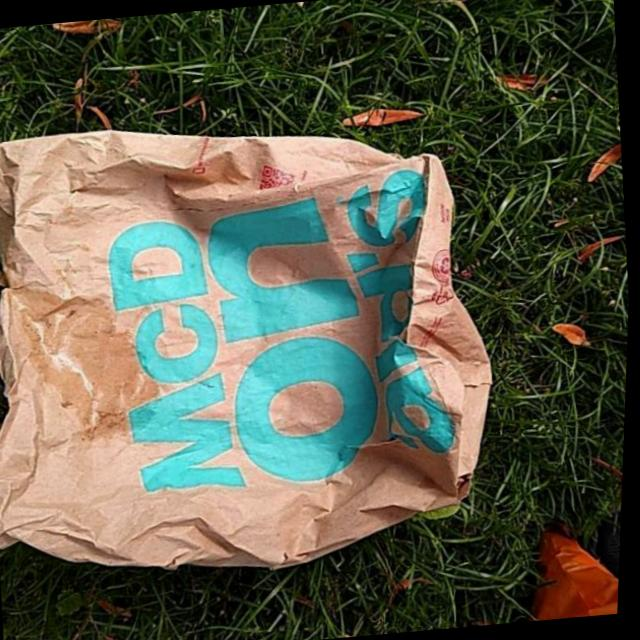Paper: (0, 91, 521, 596)
